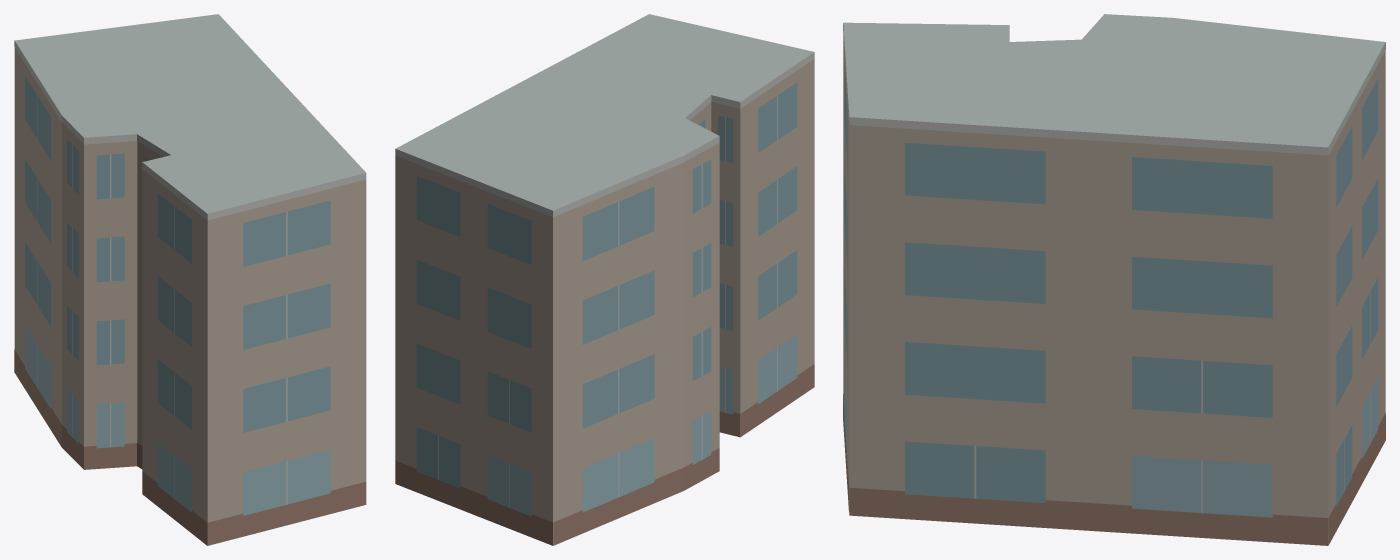
File: residential-b807e56d-925e-4fe5-9e95-3e785a66e582.glb
The picture shows the model from 3 angles, left to right: view 1: azimuth 30°, elevation 25°; view 2: azimuth 150°, elevation 25°; view 3: azimuth 270°, elevation 25°; orthographic projection. The views are drawn at different scales.
Parts seen in each view (by area): view 1: residential-b807e56d-925e-4fe5-9e95-3e785a66e582.tmp; view 2: residential-b807e56d-925e-4fe5-9e95-3e785a66e582.tmp; view 3: residential-b807e56d-925e-4fe5-9e95-3e785a66e582.tmp.
Boxes of the visible parts, x1,y1,x2,y2 form: residential-b807e56d-925e-4fe5-9e95-3e785a66e582.tmp: (14, 14, 366, 545); residential-b807e56d-925e-4fe5-9e95-3e785a66e582.tmp: (395, 14, 814, 545); residential-b807e56d-925e-4fe5-9e95-3e785a66e582.tmp: (843, 14, 1385, 545).
Bounding box in the file's own units: 8.77 × 12.2 × 15.06.
